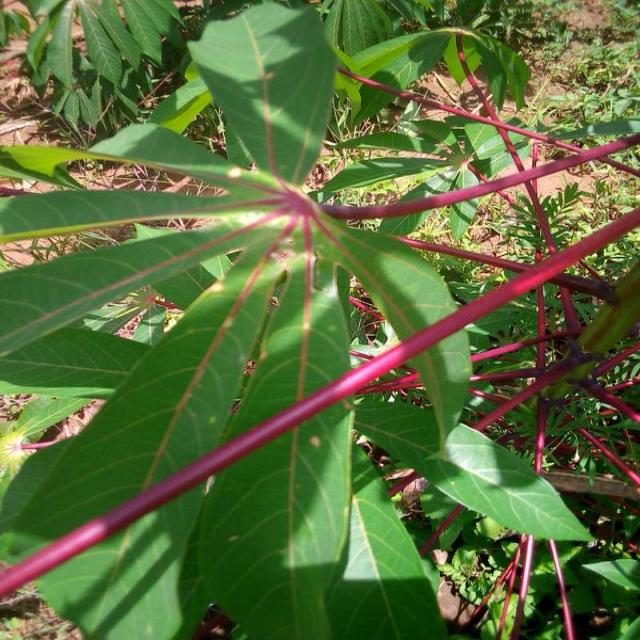cassava leaf: (1, 1, 606, 637), (1, 238, 356, 638), (186, 0, 340, 189)
